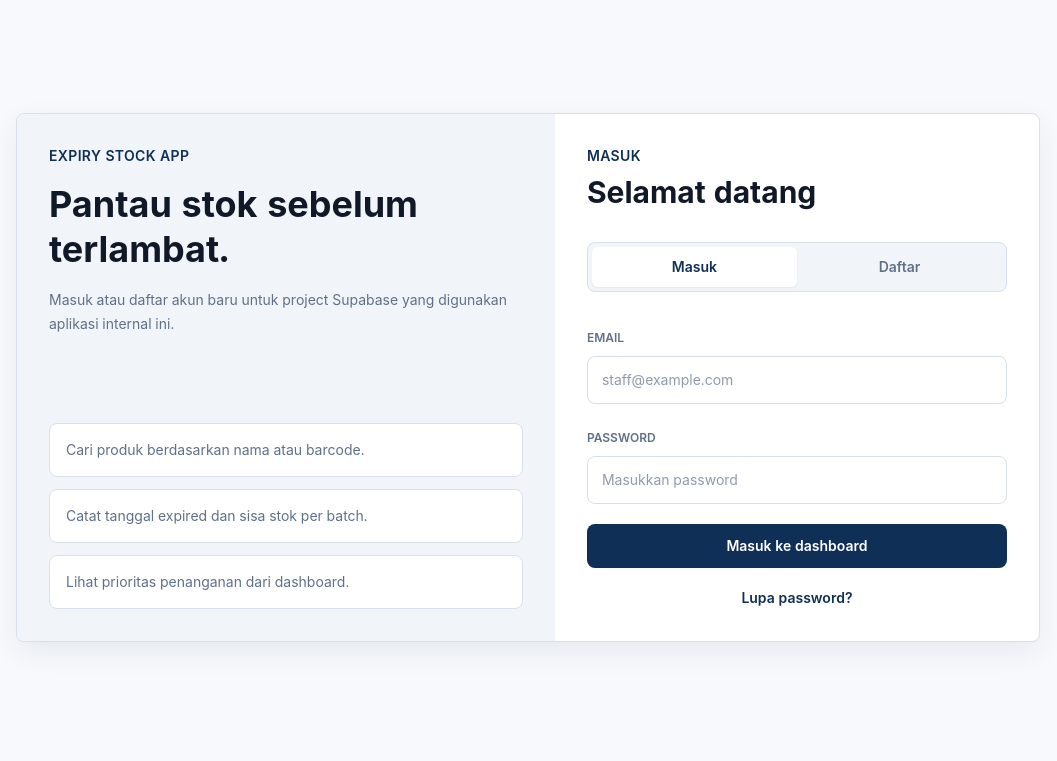
Test: LoginPage › menolak daftar akun saat konfirmasi password berbeda
Click the tab "Daftar": (899, 266) top-left (797, 246), bottom-right (1002, 286)
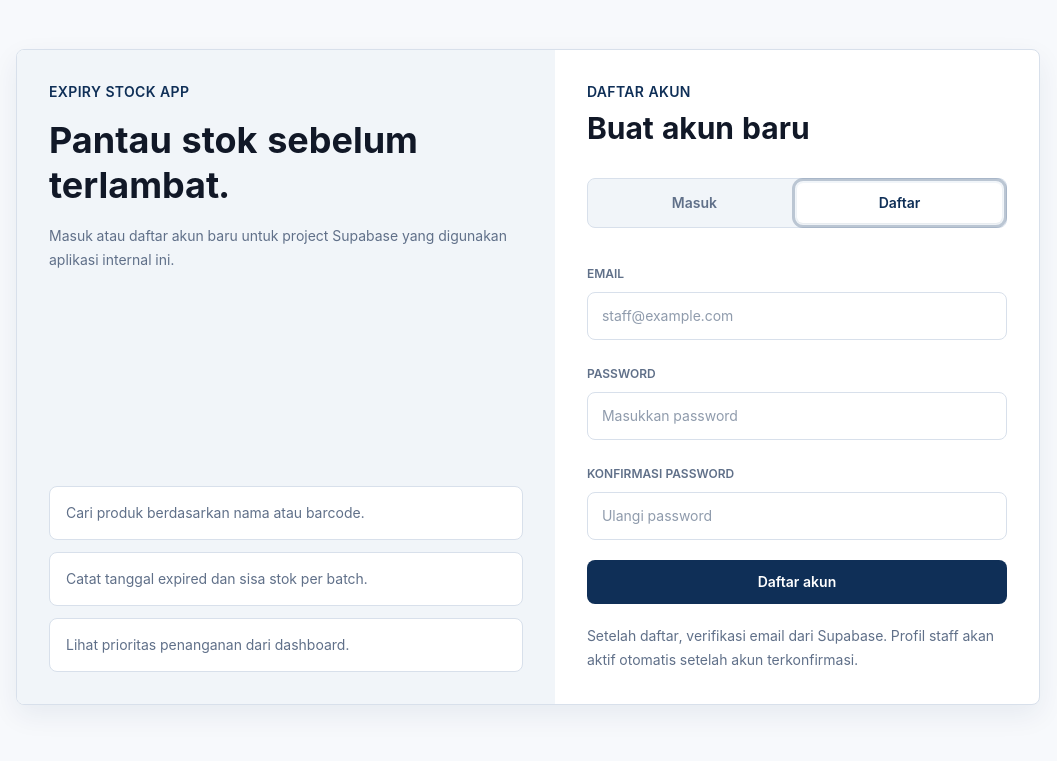
In the field labelled "Email": (797, 316) top-left (587, 292), bottom-right (1007, 340), type "baru@example.com"
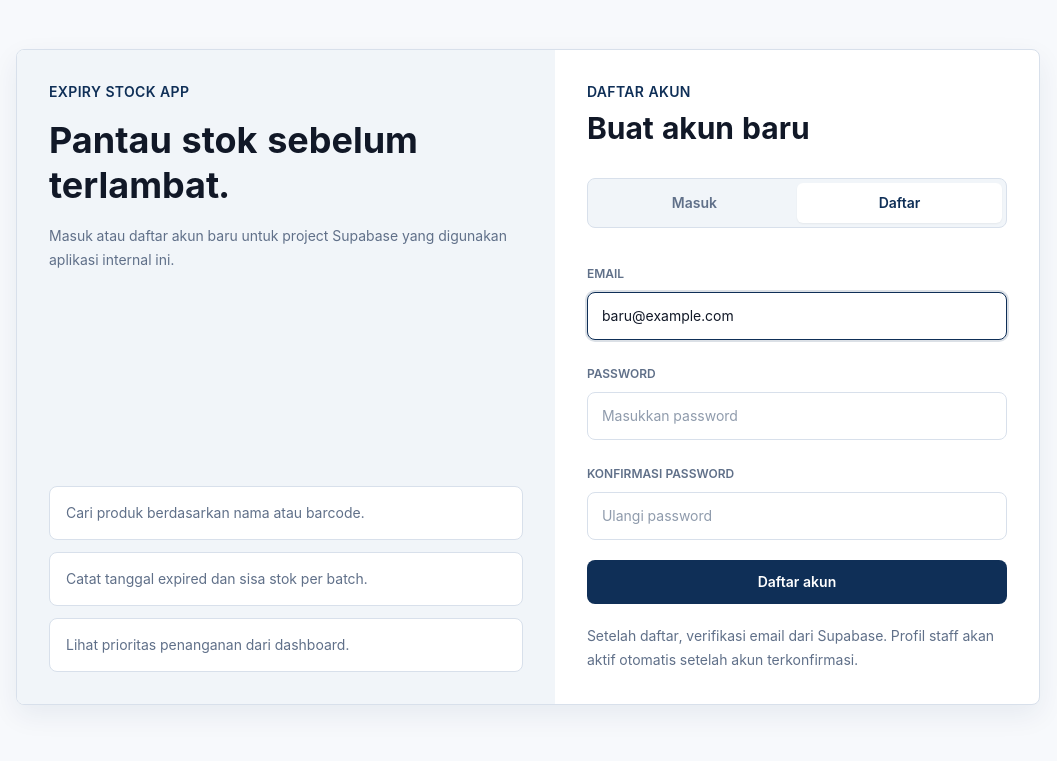
In the password field labelled "Password": (797, 416) top-left (587, 392), bottom-right (1007, 440), type "password-baru"
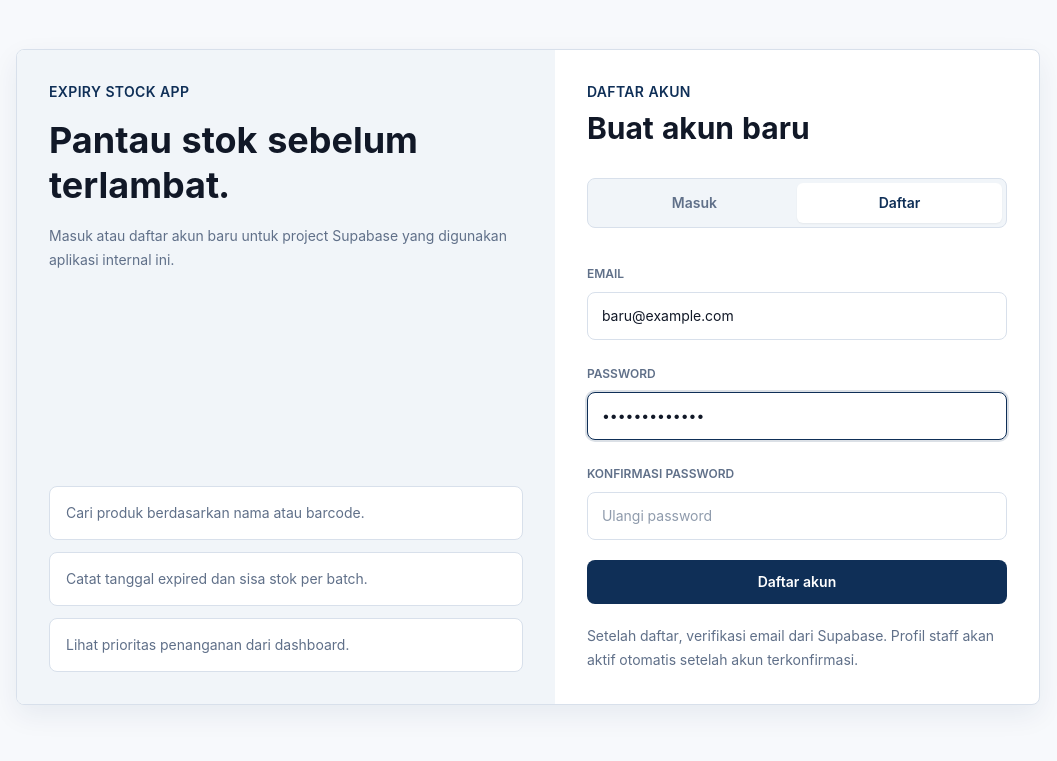
In the password field labelled "Konfirmasi password": (797, 516) top-left (587, 492), bottom-right (1007, 540), type "password-lain"
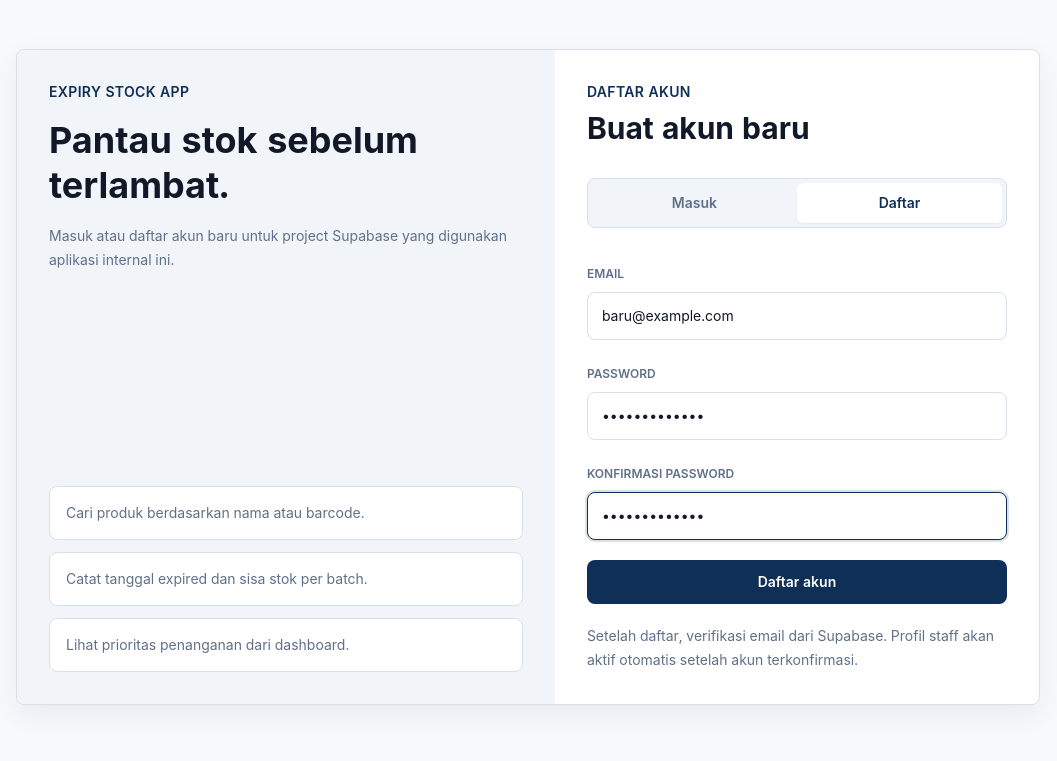
Click the button "Daftar akun": (797, 582) top-left (587, 560), bottom-right (1007, 604)
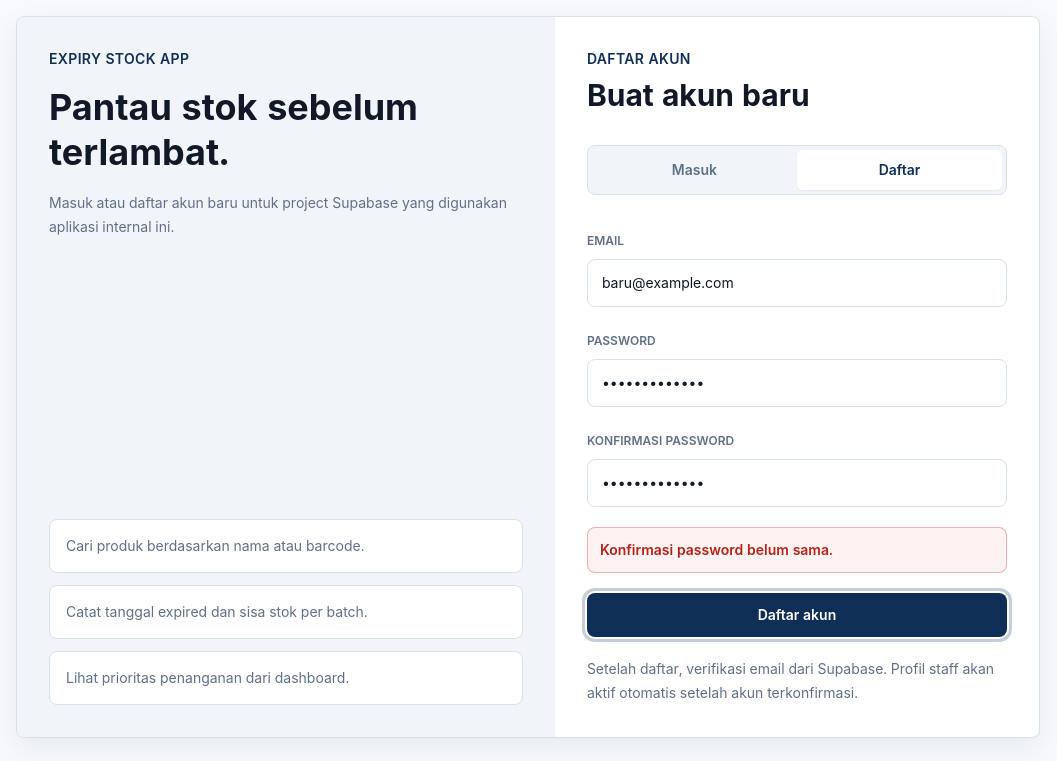
Check: the text "Konfirmasi password belum sama." is shown, box top-left (587, 527), bottom-right (1007, 573)
